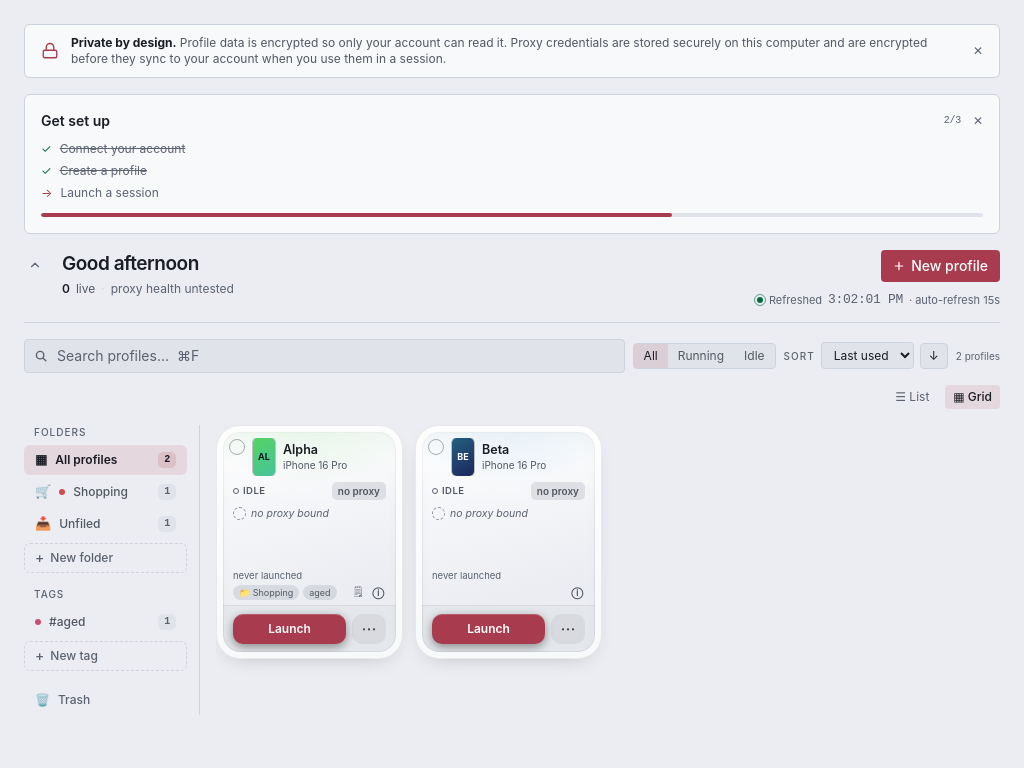
Test: ProfilesView search matches synced org metadata › still matches by name (no regression)
This screenshot has width=1024, height=768.
Check: the text "Alpha" is shown, box 283,442 -> 318,456
Check: the text "Beta" is shown, box 482,442 -> 509,456
Type "beta" into the search field labelled "Search profiles". click: x=324, y=356
box: 24,338 -> 625,372
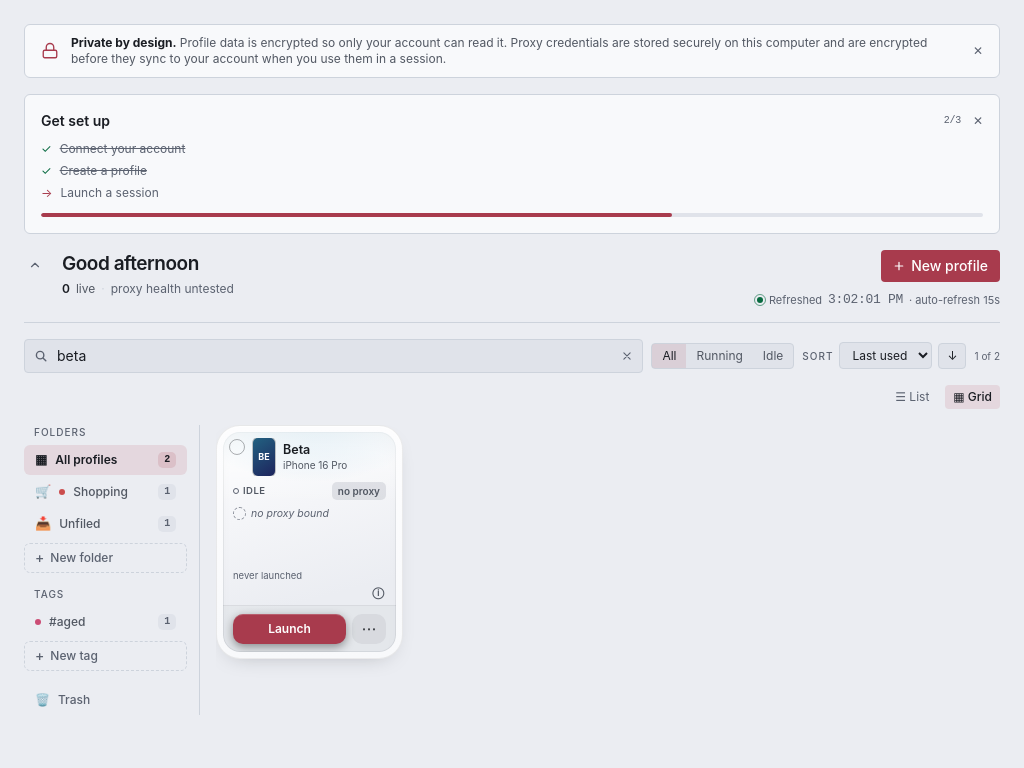
Check: the text "Beta" is shown, box 283,442 -> 310,456
Check: the button "Alpha" is gone
